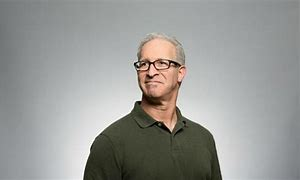person: (132, 34, 187, 105)
